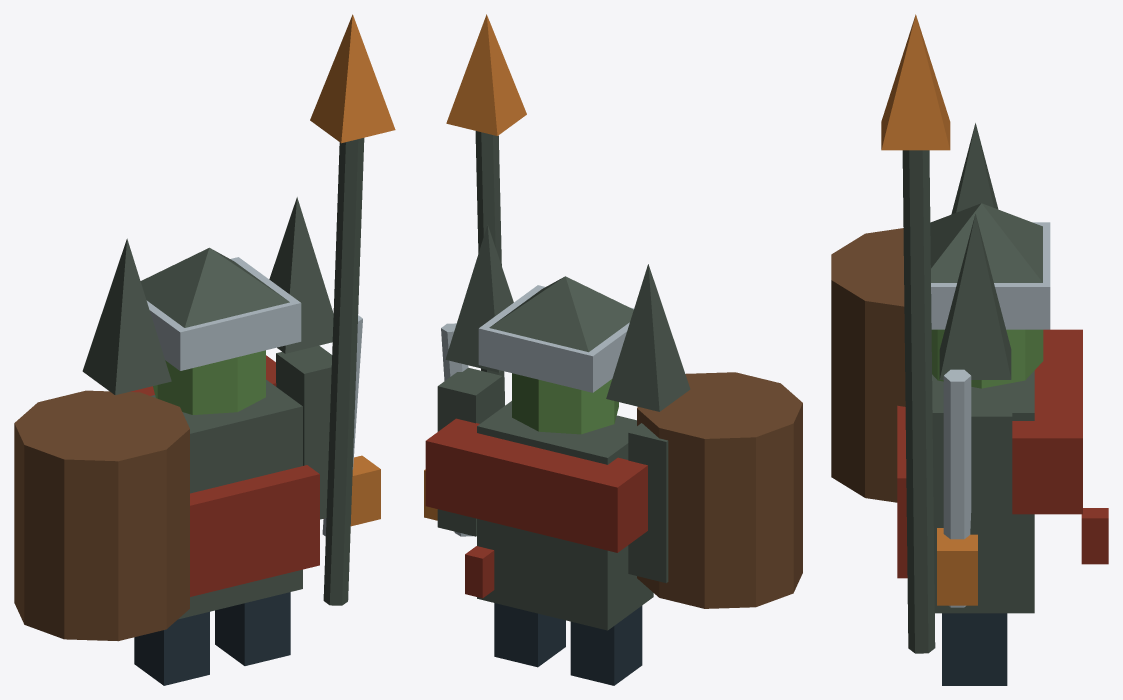
File: stone-spearman.obj
3 renders of one model, left to right at view 1: azimuth 30°, elevation 25°; view 2: azimuth 150°, elevation 25°; view 3: azimuth 270°, elevation 25°, orthographic. The views are drawn at different scales.
Visible parts, largest first — view 1: infantry; view 2: infantry; view 3: infantry.
Boxes of the visible parts, x1,y1,x2,y2 form: infantry: [14, 14, 395, 685]; infantry: [424, 14, 802, 685]; infantry: [831, 14, 1108, 685].
Bounding box in the file's own units: 1.54 × 2.58 × 0.9273.
